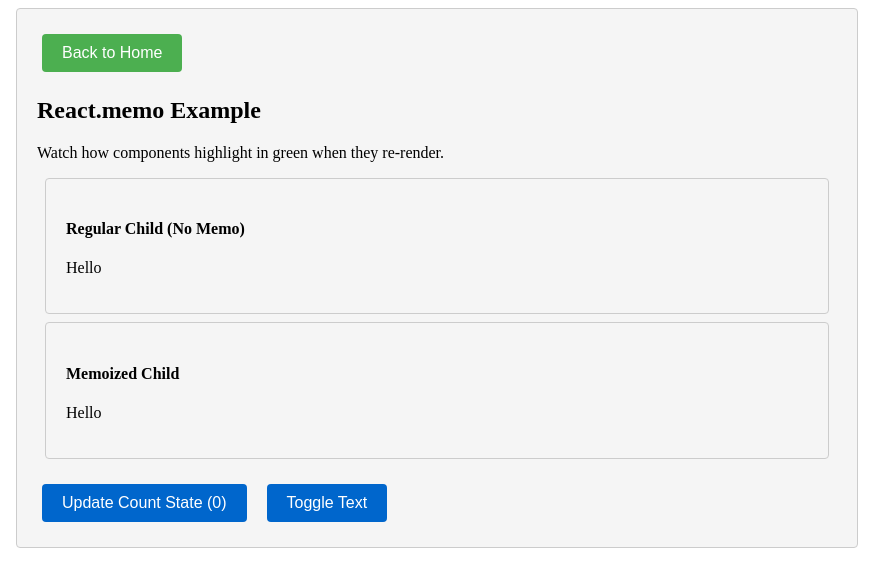
Test: MemoExample › increments count when button is clicked
Click the button "Update Count State (0)" at (144, 503), box [42,484,246,522]
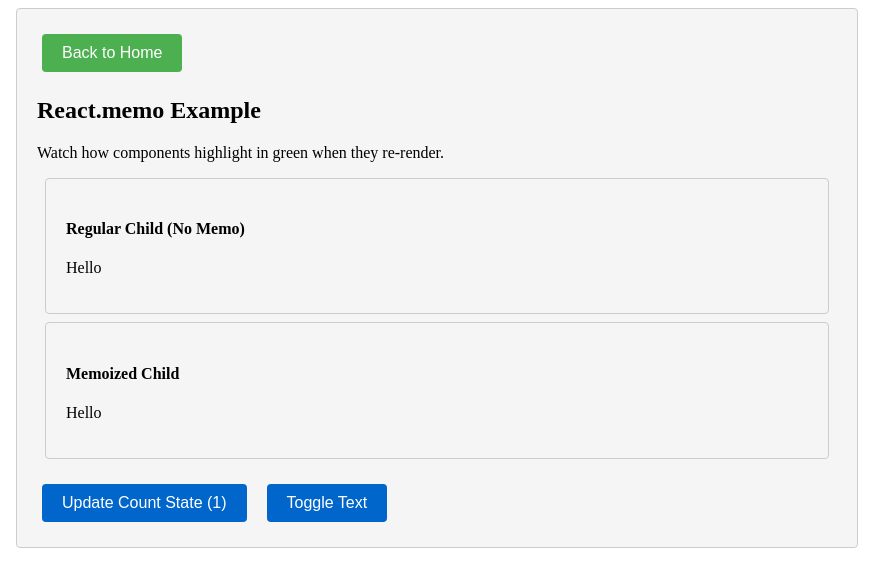
Check: the button "Update Count State (1)" is shown, box [42,484,246,522]
